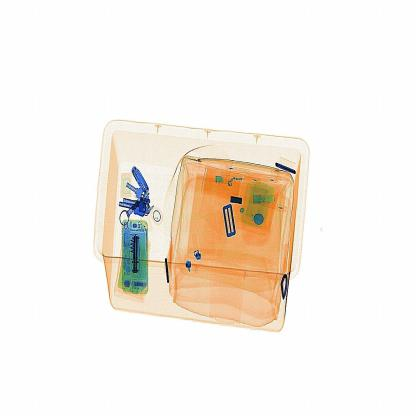scissors: (124, 229, 152, 282)
